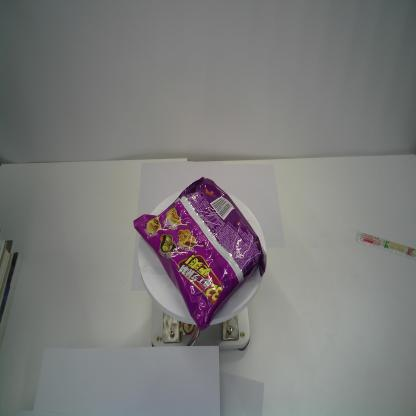Instant Noodles: (133, 176, 266, 332)
